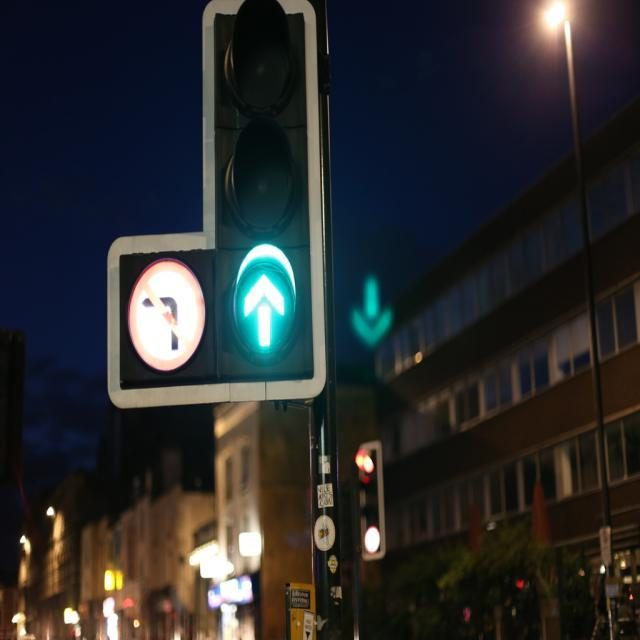traffic light: (114, 5, 327, 399)
